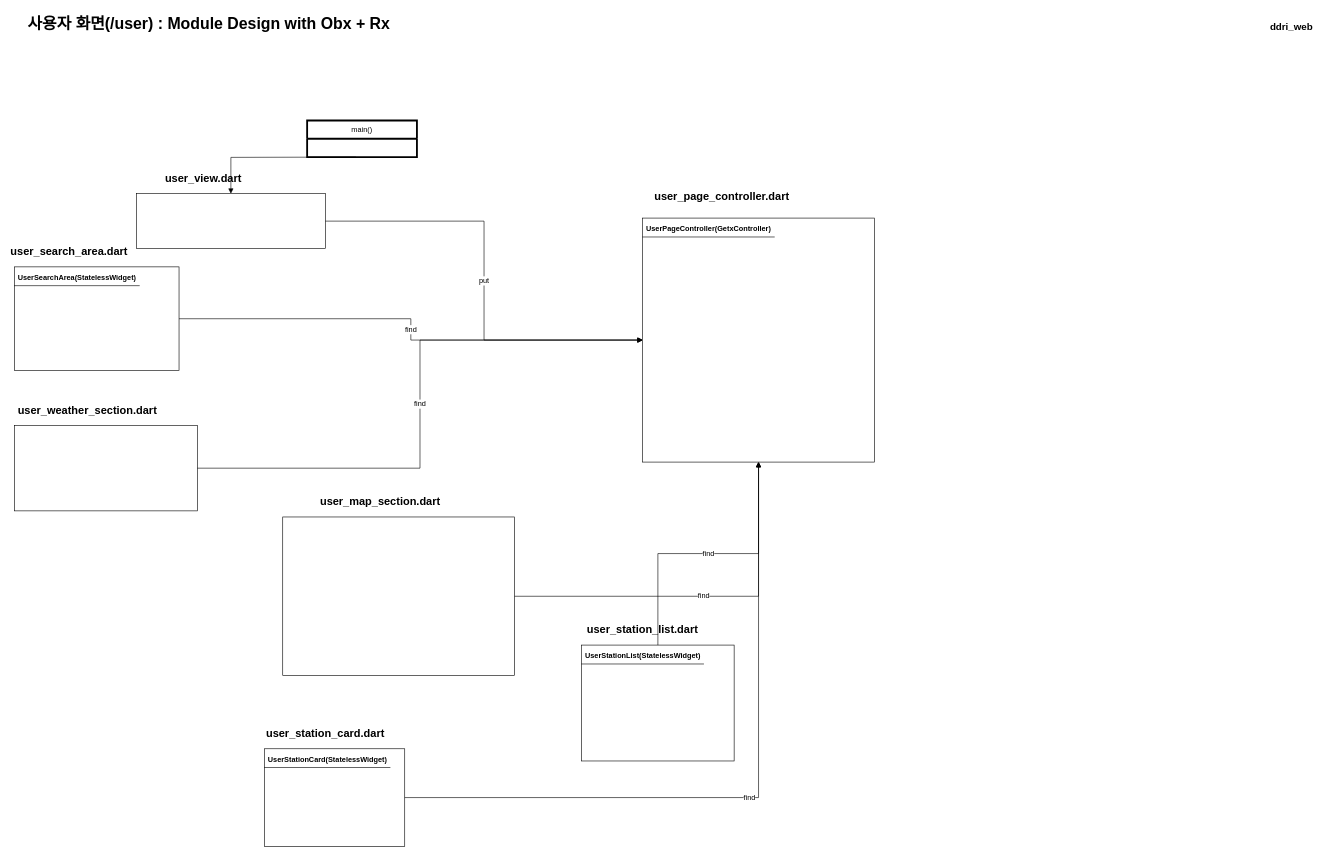
Some shapes in this 1324 by 857 pixel diagram are drawn without their labels. The shapes that lost their labels are listed below. From the top down, each one's centre as x and y in pixels, then its label:
point 230,221: UserView(StatelessWidget)
point 105,468: UserWeatherSection(StatelessWidget)
point 398,596: UserMapSection(StatefulWidget), _UserMapSectionState(State)
